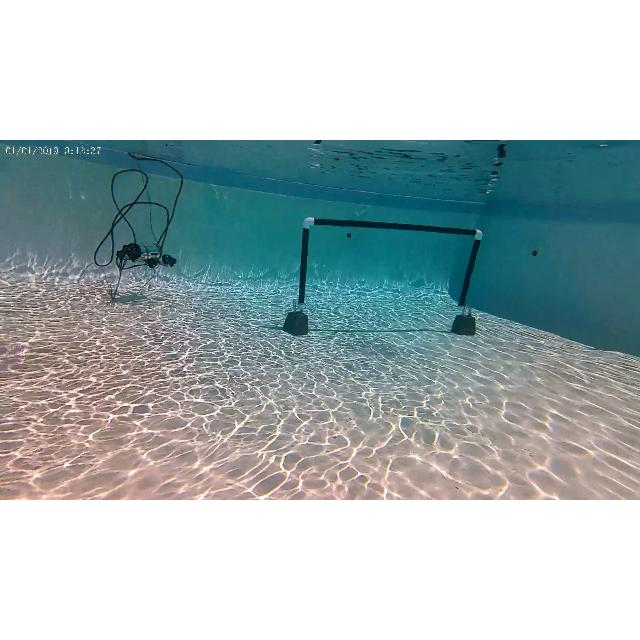prequal gate: (298, 218, 484, 312)
prequal gate leg l: (289, 215, 315, 333)
prequal gate leg r: (452, 222, 483, 338)
